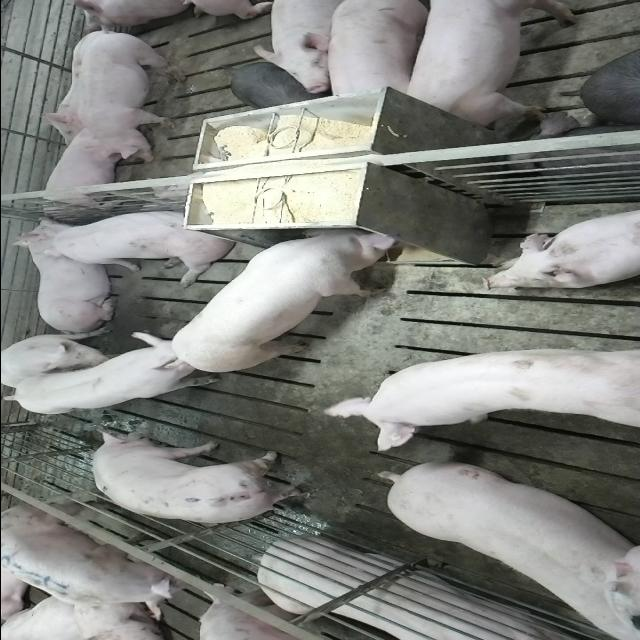Feeding: (137, 218, 403, 369)
Sitting: (9, 207, 236, 280), (2, 332, 122, 388)
Standing: (374, 458, 634, 634), (318, 343, 638, 446), (393, 1, 578, 127), (0, 504, 189, 620), (88, 433, 316, 524), (4, 328, 222, 414), (80, 28, 188, 164), (324, 2, 432, 102), (252, 0, 358, 93)
Sternal_lying: (234, 540, 588, 640), (483, 207, 640, 290), (16, 218, 125, 330), (34, 130, 132, 212)
